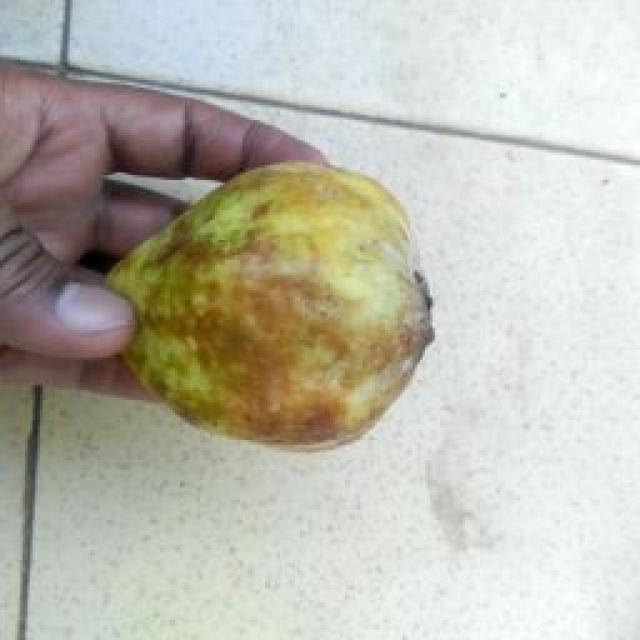Bad_Guava: (106, 162, 432, 443)
